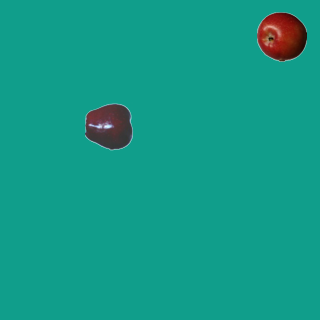Apple Braeburn: (256, 11, 306, 61)
Apple Red Delicious: (84, 101, 134, 151)
